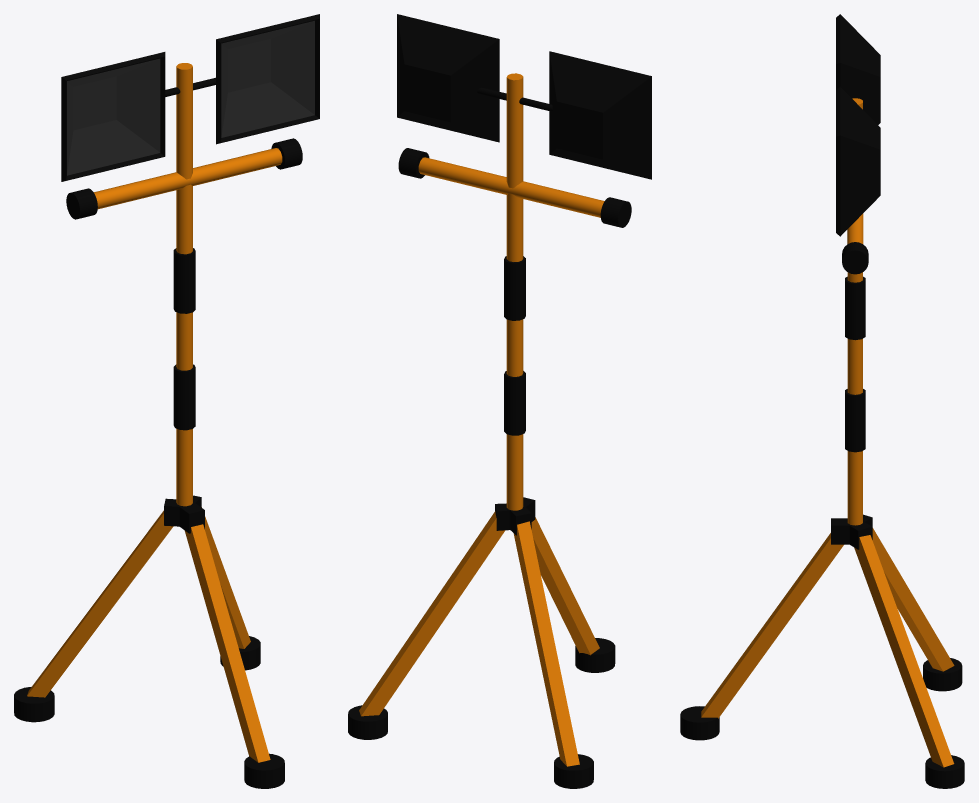
File: spot_light_v1.FBX
The picture shows the model from 3 angles, left to right: view 1: azimuth 30°, elevation 25°; view 2: azimuth 150°, elevation 25°; view 3: azimuth 270°, elevation 25°; orthographic projection. The views are drawn at different scales.
Visible parts, largest first — view 1: Black, Yellow; view 2: Black, Yellow; view 3: Black, Yellow.
Boxes of the visible parts, x1,y1,x2,y2 form: Black: [14, 14, 319, 788]; Yellow: [27, 63, 282, 762]; Black: [348, 14, 651, 788]; Yellow: [359, 73, 604, 766]; Black: [680, 14, 964, 788]; Yellow: [701, 98, 954, 767].
Size of the model in its own units: 31.98 by 80.63 by 31.63.
